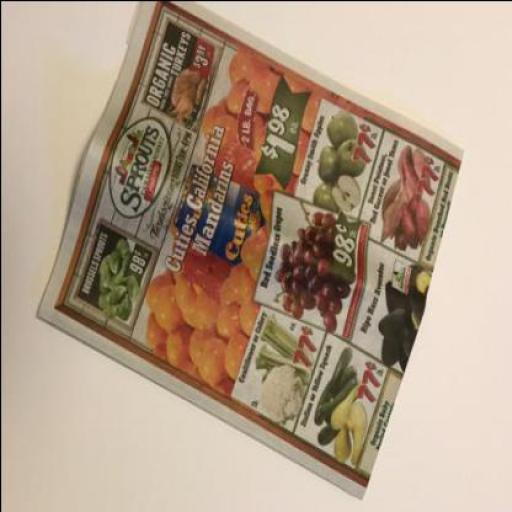paper: (36, 1, 466, 500)
